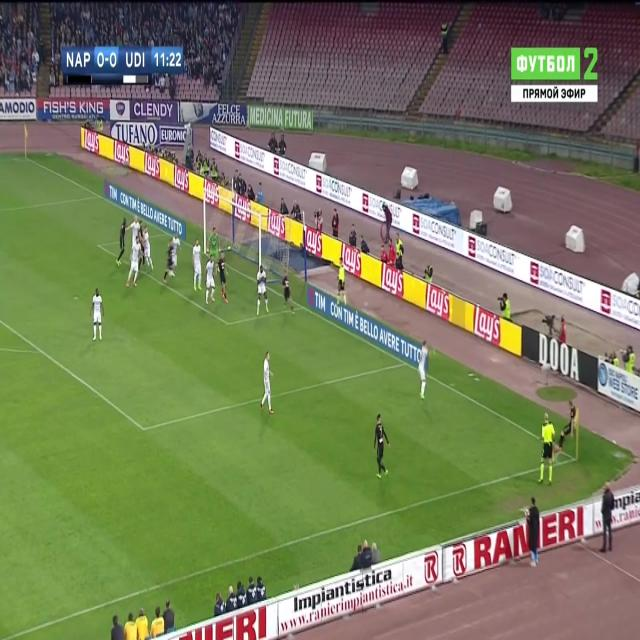Goalkeeper: (208, 224, 222, 267)
Player: (371, 412, 394, 484), (556, 398, 577, 459), (260, 347, 277, 417), (90, 285, 108, 346), (254, 262, 271, 320), (416, 340, 431, 402), (125, 236, 141, 292), (217, 250, 232, 308), (203, 252, 217, 313), (113, 216, 128, 272), (143, 218, 156, 276), (190, 238, 203, 294), (170, 229, 182, 287), (280, 271, 295, 314), (162, 241, 173, 286), (127, 211, 141, 246)
Referee: (537, 406, 556, 486), (335, 255, 350, 311)
